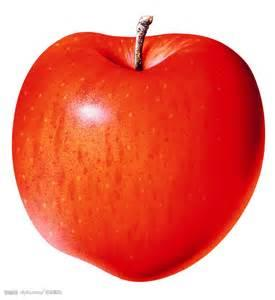apple: (9, 14, 269, 286)
